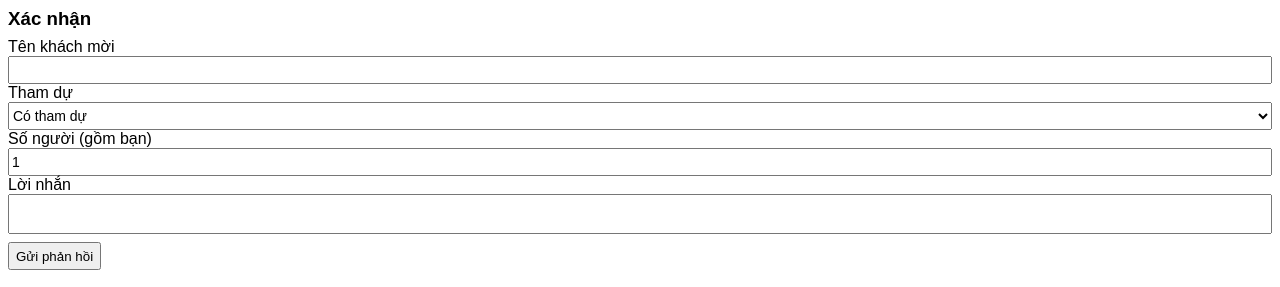
it: public RSVP persistence UX › sets declined party size to zero and keeps plain-text message
Check: the button "Gửi phản hồi" is enabled, box [8,242,101,270]
In the field labelled "Tên khách mời": {"x": 640, "y": 70} [8,56,1272,84], type "Khách"
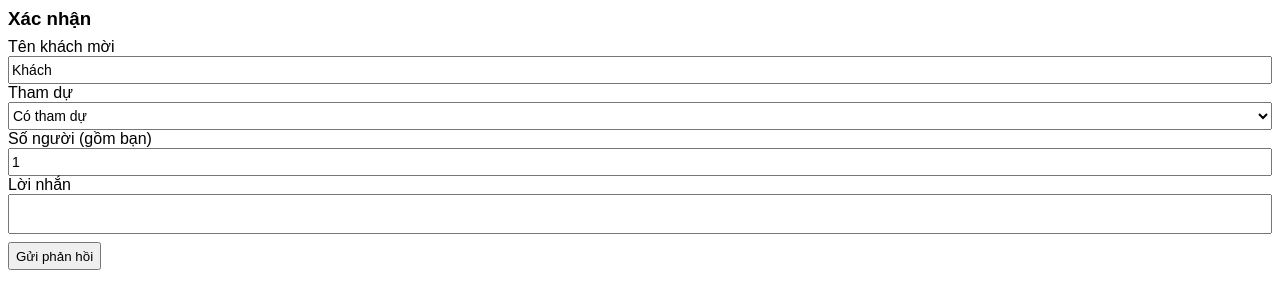
Select "Không tham dự" in the dropdown labelled "Tham dự": {"x": 640, "y": 116} [8,102,1272,130]
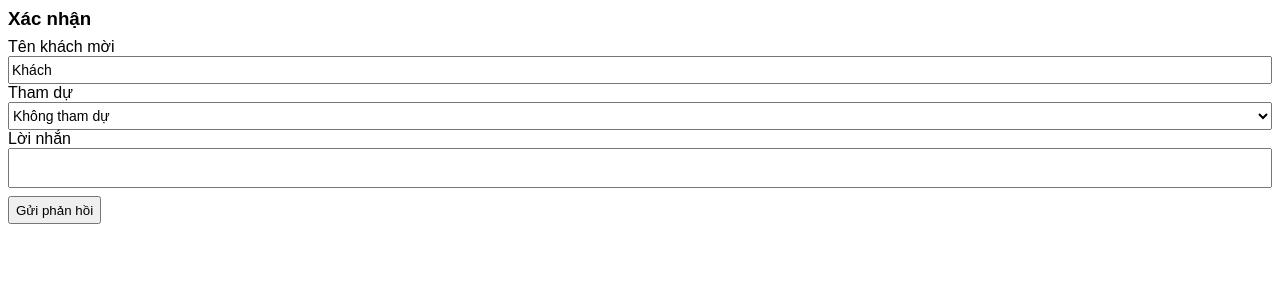
In the text box labelled "Lời nhắn": {"x": 640, "y": 168} [8,148,1272,188], type "<script>alert(1)</script>"
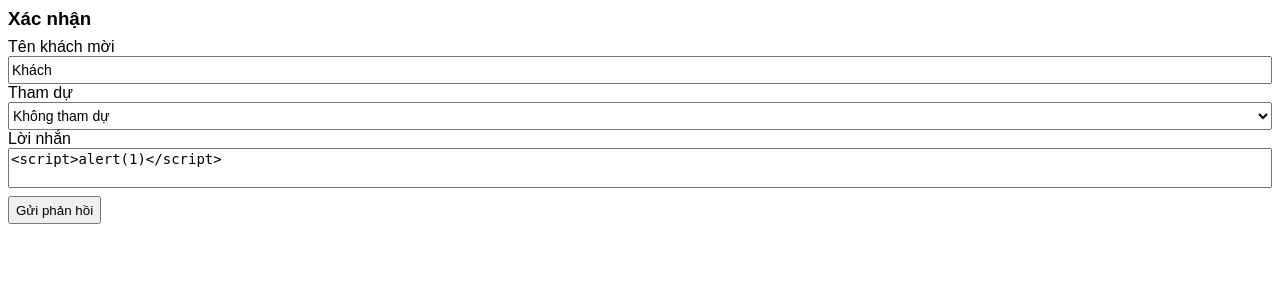
Click the button "Gửi phản hồi": {"x": 55, "y": 210} [8,196,101,224]
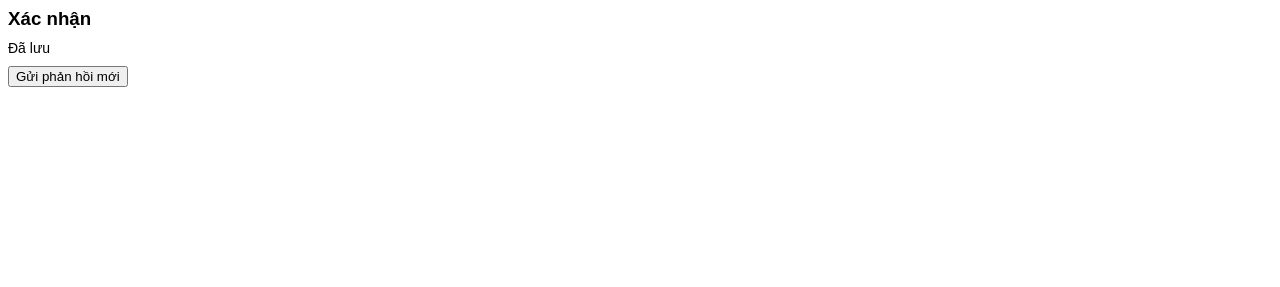
Check: the text "Đã lưu" is shown, box [8,40,50,56]
